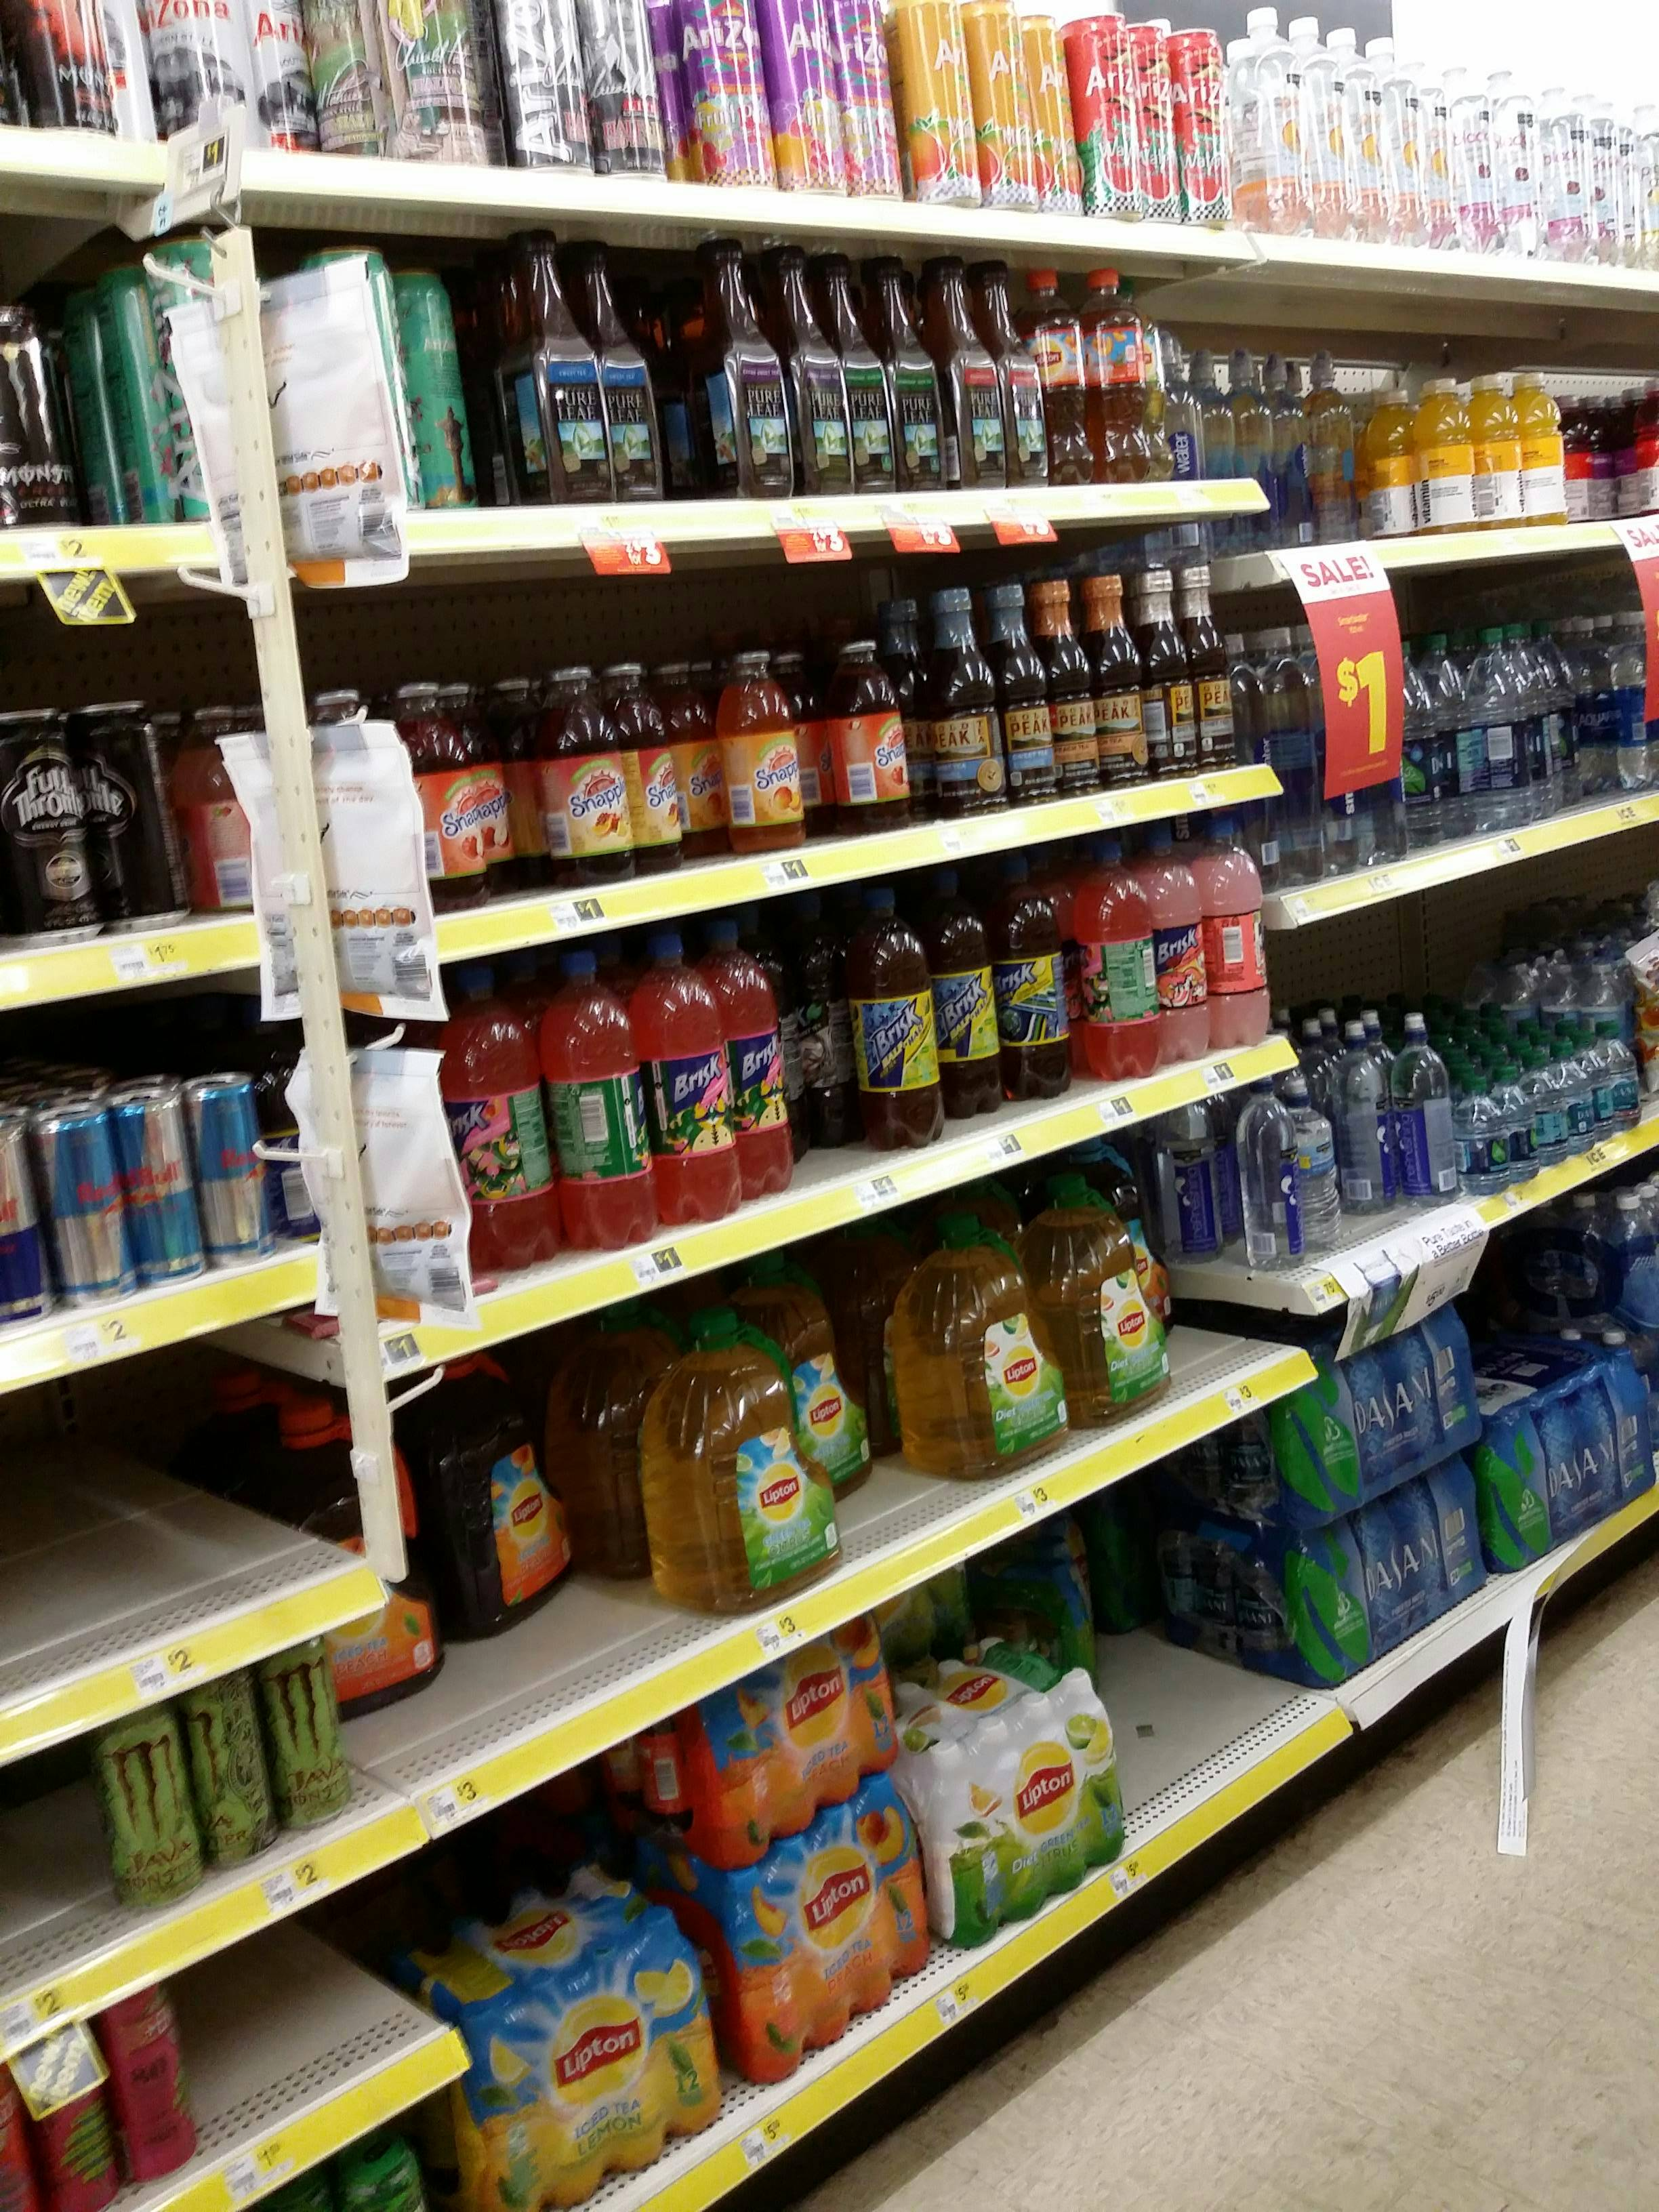Misplacement: (406, 1366, 704, 1763), (1061, 1437, 1314, 1820), (789, 1251, 967, 1573)
Out-of-stock: (51, 1310, 362, 1719), (129, 1933, 441, 2142)
